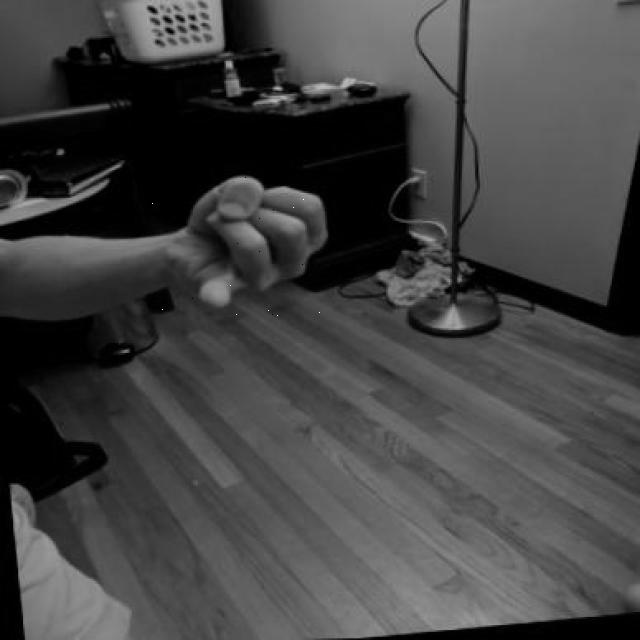J: (151, 166, 342, 319)
